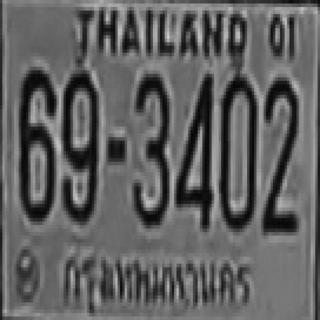N00: (218, 74, 255, 229)
N02: (261, 76, 296, 220)
N03: (131, 70, 168, 225)
N04: (174, 72, 212, 227)
N06: (21, 67, 56, 218)
N09: (62, 69, 98, 220)
P04: (54, 244, 254, 315)
